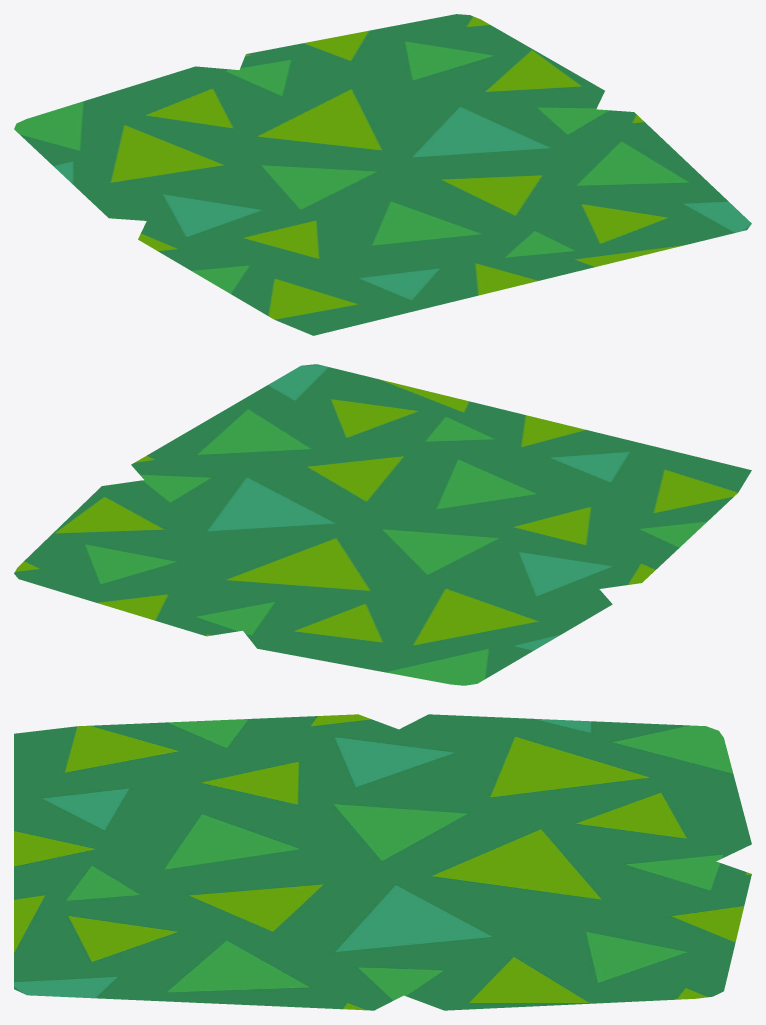
The model's file is Grass Cap.fbx.
The picture shows the model from 3 angles, top to bottom: view 1: azimuth 30°, elevation 25°; view 2: azimuth 150°, elevation 25°; view 3: azimuth 270°, elevation 25°; orthographic projection. The views are drawn at different scales.
Parts seen in each view (by area): view 1: Grass.Cap; view 2: Grass.Cap; view 3: Grass.Cap.
Part boxes in pixels (bbox=[...]): Grass.Cap: bbox=[14, 14, 751, 335]; Grass.Cap: bbox=[14, 364, 751, 685]; Grass.Cap: bbox=[14, 714, 751, 1010].
Bounding box in the file's own units: 181 × 3.1e-05 × 190.
